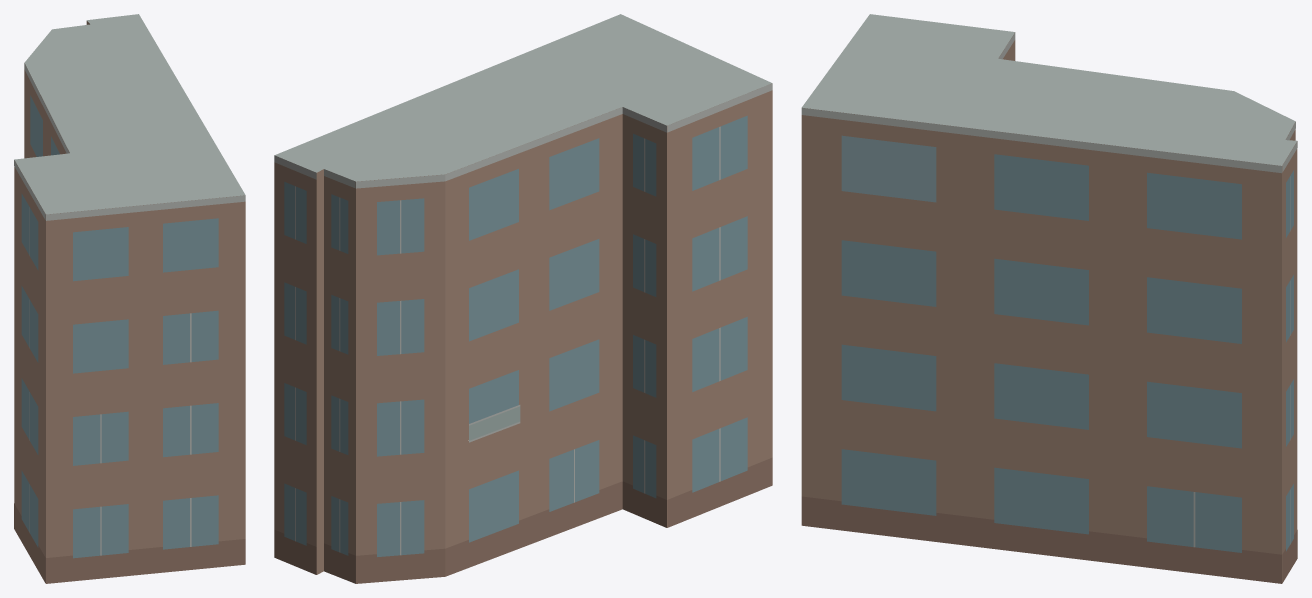
File: survey-upis-32490477.glb
3 renders of one model, left to right at view 1: azimuth 30°, elevation 25°; view 2: azimuth 150°, elevation 25°; view 3: azimuth 270°, elevation 25°, orthographic. The views are drawn at different scales.
Visible parts, largest first — view 1: survey-upis-32490477.tmp; view 2: survey-upis-32490477.tmp; view 3: survey-upis-32490477.tmp.
Part boxes in pixels (left/top/right/bottom): survey-upis-32490477.tmp: left=14, top=14, right=245, bottom=583; survey-upis-32490477.tmp: left=274, top=14, right=772, bottom=583; survey-upis-32490477.tmp: left=801, top=14, right=1297, bottom=583.
Bounding box in the file's own units: 10.93 × 14 × 15.07.
